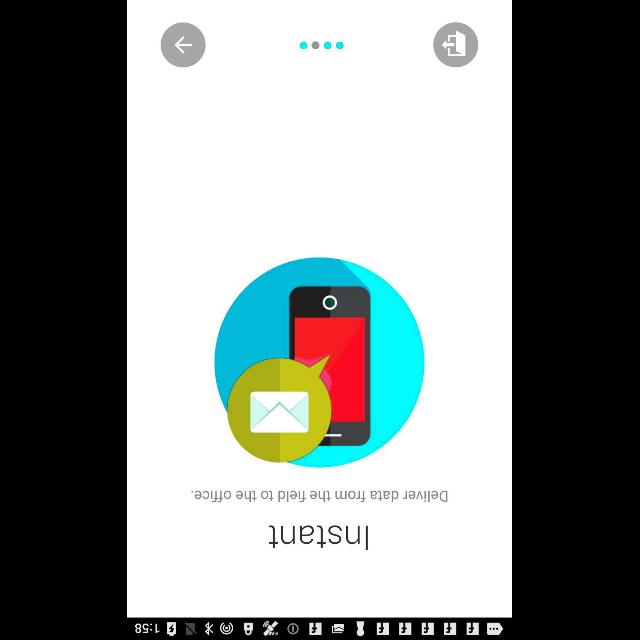button: (434, 22, 480, 68), (162, 22, 206, 68)
image: (215, 256, 425, 468)
pageindicator: (300, 41, 344, 49)
text: (192, 490, 448, 502), (269, 524, 369, 550)
uppertaskbar: (128, 617, 512, 639)
